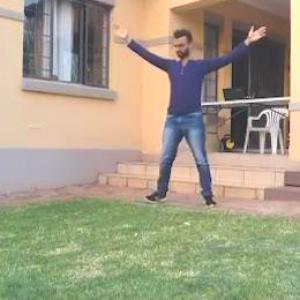takeoff: (108, 22, 269, 201)
